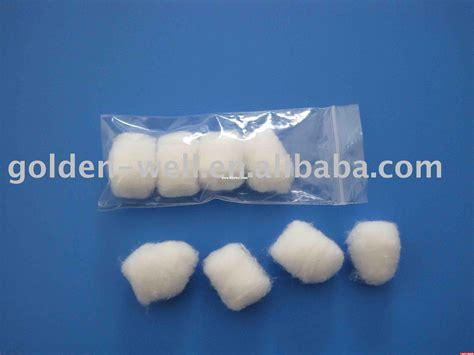cotton: (270, 219, 345, 288), (202, 241, 272, 312), (123, 240, 199, 304), (347, 220, 402, 284), (107, 132, 160, 196), (193, 133, 247, 194), (243, 129, 293, 193), (154, 132, 201, 198)
